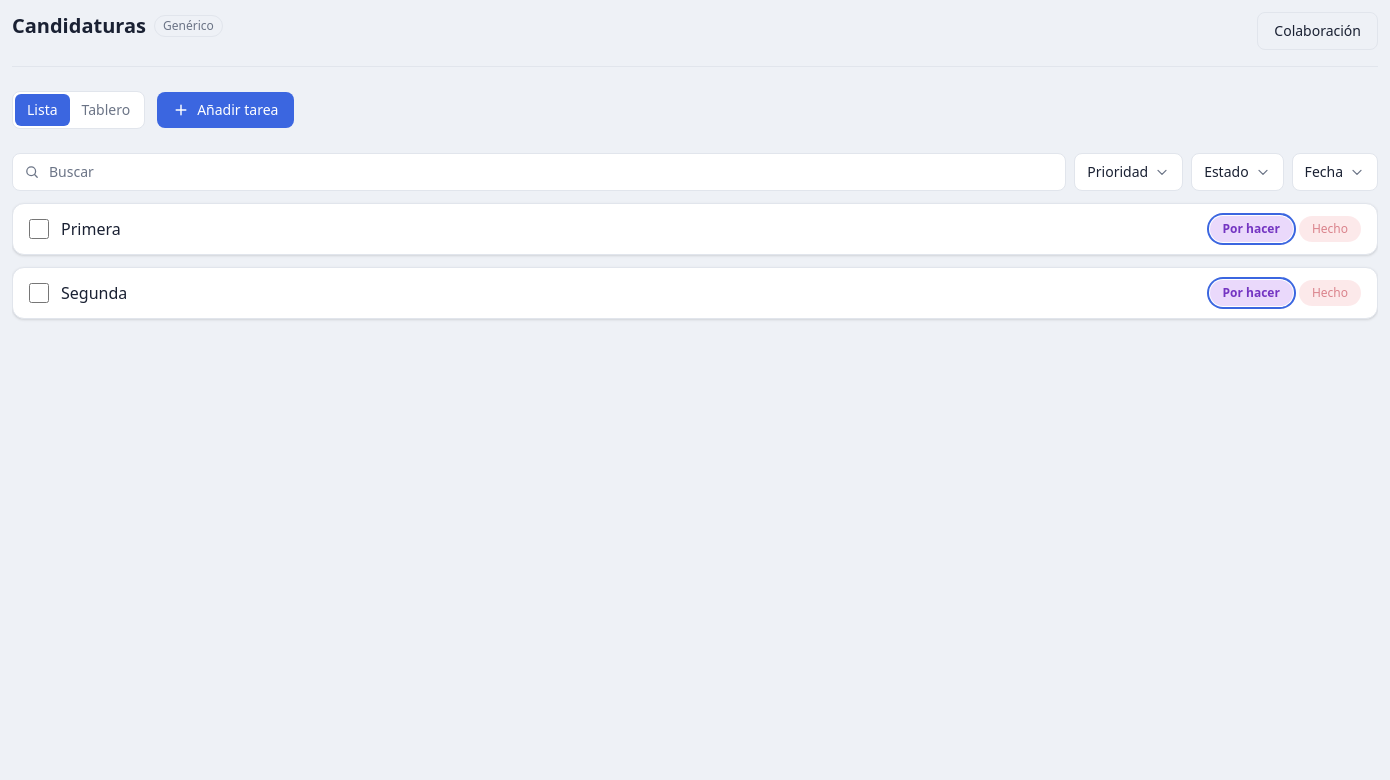
Test: BoardPage: vista inicial › abre en la vista de lista y recuerda el cambio a tablero
Check: the list named "Tareas" is shown, box left=12, top=203, right=1378, bottom=319
Click the radio button labelled "Tablero": (106, 110) left=70, top=94, right=142, bottom=126
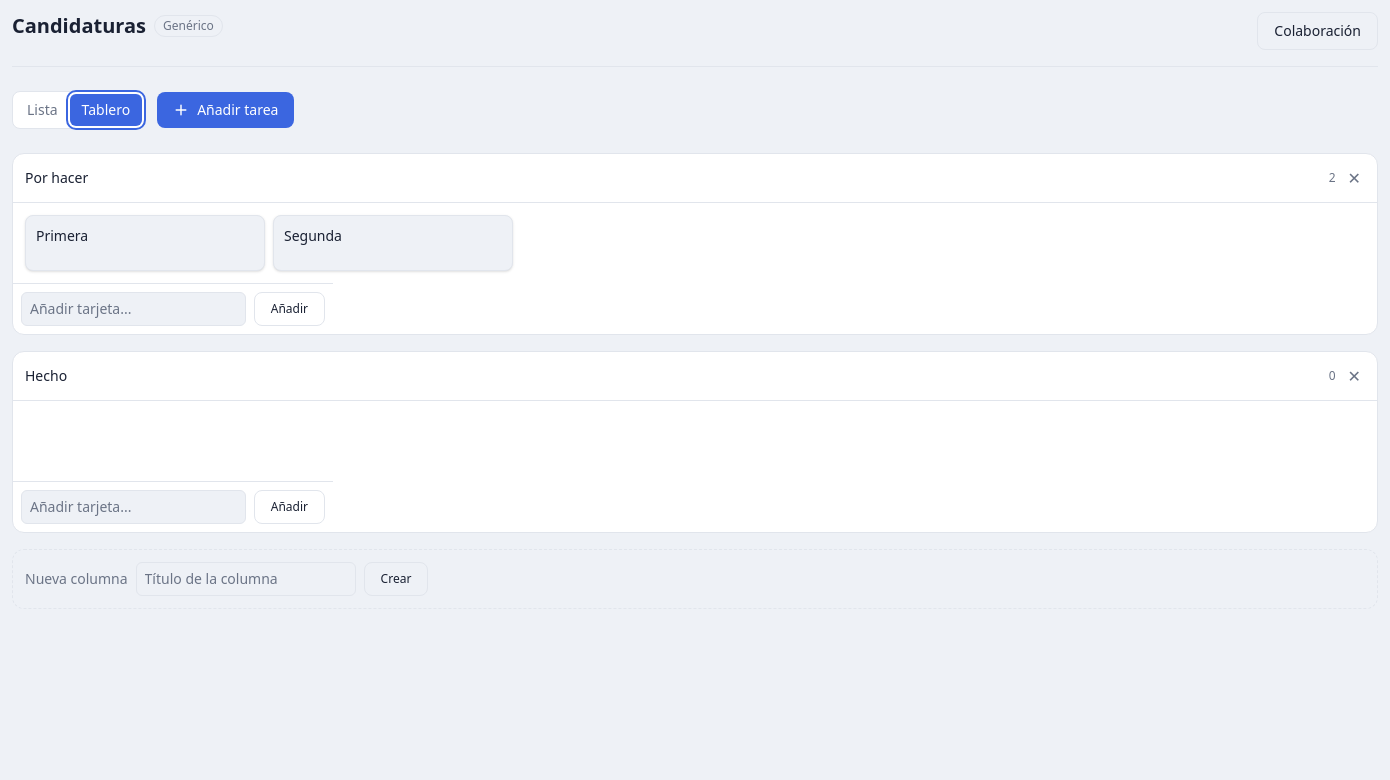
Check: the field named "Añadir tarjeta a Hecho" is shown, box left=21, top=490, right=246, bottom=524
